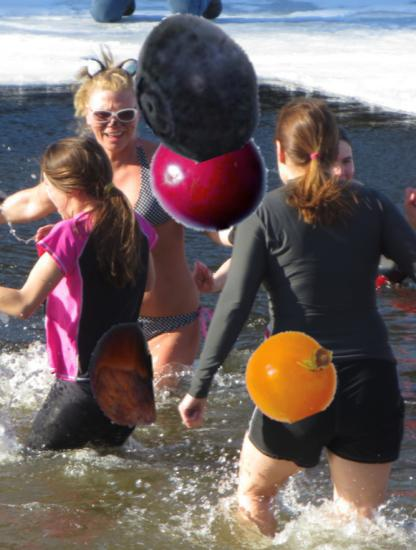Blueberry: (121, 11, 271, 161)
Chestnut: (66, 321, 176, 431)
Physalis: (243, 327, 342, 426)
Tamarillo: (148, 109, 280, 241)
